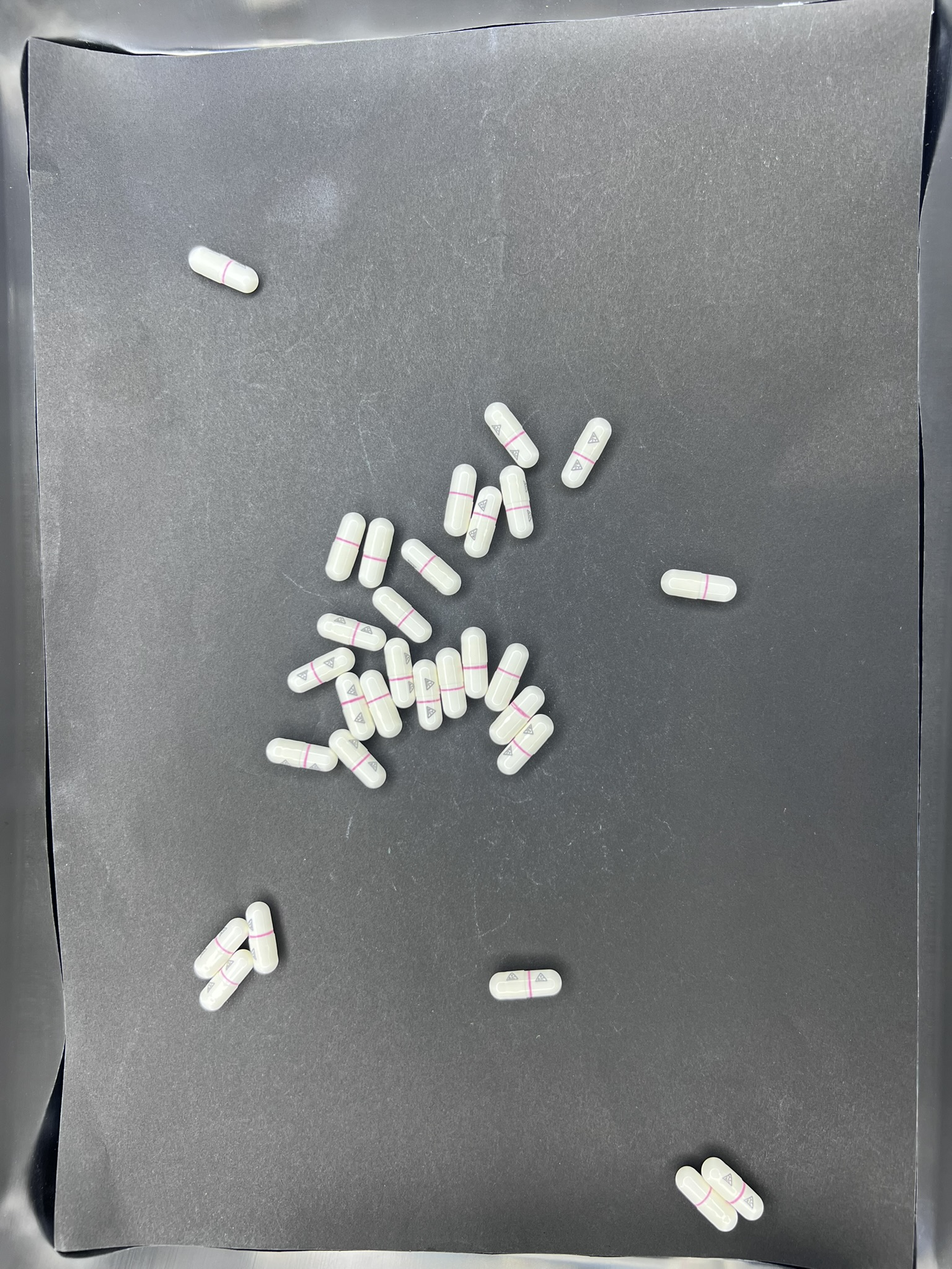Capsule: (675, 1163, 736, 1235), (699, 1155, 763, 1221), (400, 538, 463, 599), (483, 401, 539, 468), (373, 584, 434, 645), (197, 947, 254, 1012), (194, 916, 250, 981), (497, 713, 554, 775), (287, 646, 357, 695), (188, 245, 258, 294), (329, 728, 384, 790), (561, 419, 610, 488), (490, 685, 545, 744), (486, 644, 530, 712), (325, 513, 366, 583), (316, 613, 387, 653), (464, 485, 501, 557), (361, 671, 400, 739), (336, 674, 376, 740), (661, 568, 736, 603), (358, 518, 395, 588), (266, 737, 335, 774), (500, 466, 534, 540), (444, 465, 478, 538), (490, 969, 563, 1002), (246, 902, 278, 975), (436, 647, 466, 719), (384, 639, 415, 708), (413, 658, 442, 730), (461, 628, 489, 699)
